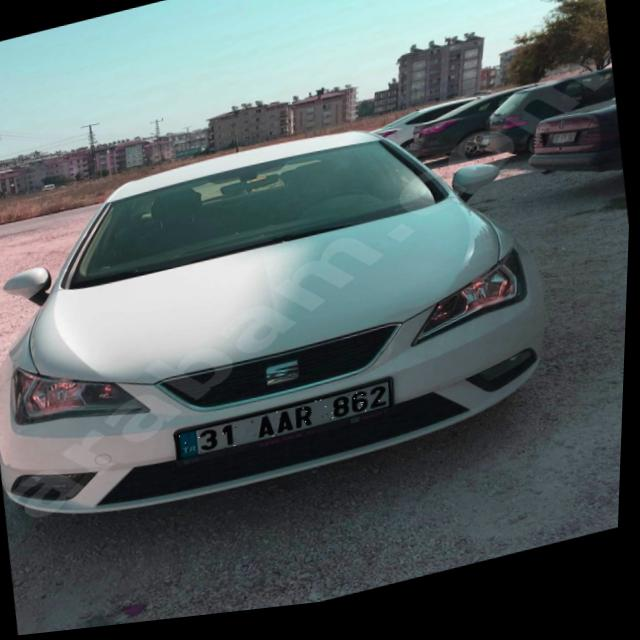license_plate: (177, 389, 397, 465)
